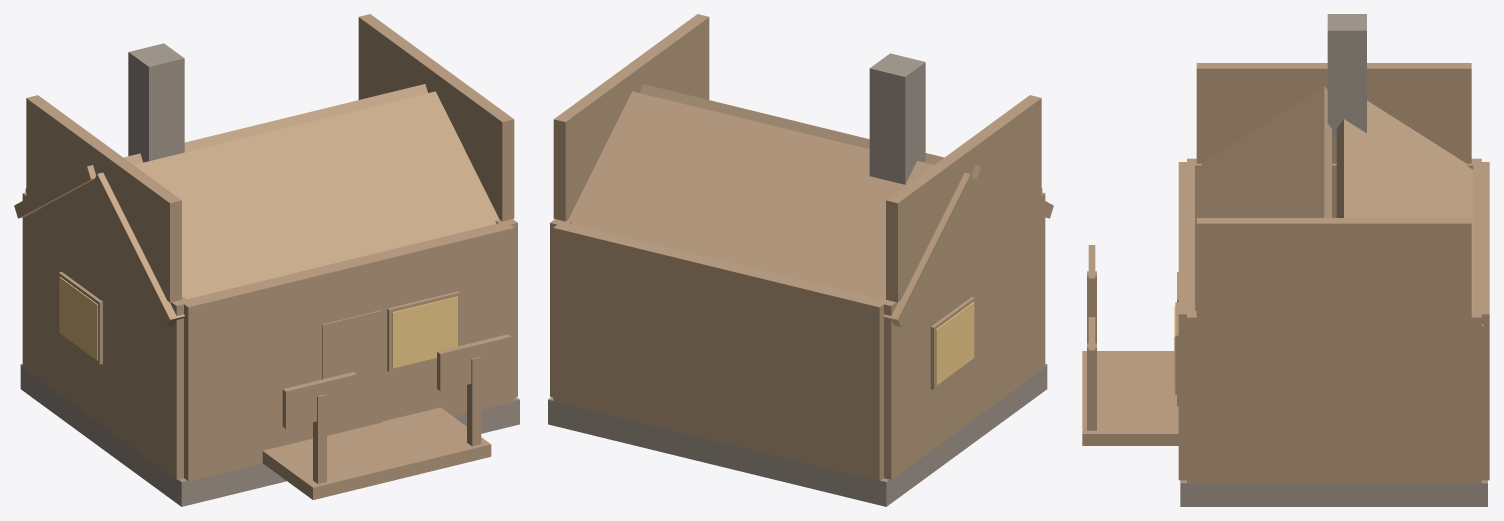
The model's file is SM_Cabin.fbx.
3 views of the same model, side by side, from view 1: azimuth 30°, elevation 25°; view 2: azimuth 150°, elevation 25°; view 3: azimuth 270°, elevation 25° (orthographic). The views are drawn at different scales.
Parts seen in each view (by area): view 1: SM_Cabin_Roof_A, SM_Cabin_Wall_Front, SM_Cabin_Wall_Side_L, SM_Cabin_Gable_Fill_L, SM_Cabin_Porch_Deck, SM_Cabin_Gable_Fill_R, SM_Cabin_Foundation, SM_Cabin_Chimney, SM_Cabin_Door, SM_Cabin_Roof_B, SM_Cabin_Window_Pane_Front, SM_Cabin_Porch_Rail_L (+7 smaller); view 2: SM_Cabin_Wall_Back, SM_Cabin_Roof_B, SM_Cabin_Wall_Side_L, SM_Cabin_Gable_Fill_L, SM_Cabin_Foundation, SM_Cabin_Gable_Fill_R, SM_Cabin_Chimney, SM_Cabin_Roof_A, SM_Cabin_Window_Pane_Side, SM_Cabin_Window_Frame_Side, SM_Cabin_Wall_Side_R; view 3: SM_Cabin_Wall_Side_R, SM_Cabin_Gable_Fill_R, SM_Cabin_Gable_Fill_L, SM_Cabin_Roof_A, SM_Cabin_Roof_B, SM_Cabin_Porch_Deck, SM_Cabin_Foundation, SM_Cabin_Chimney, SM_Cabin_Wall_Front, SM_Cabin_Wall_Back, SM_Cabin_Porch_Post_R, SM_Cabin_Porch_Rail_L (+2 smaller).
Part boxes in pixels (box(x1,y1,x2,y2)): SM_Cabin_Roof_A: box(93, 91, 499, 326); SM_Cabin_Wall_Front: box(182, 223, 514, 481); SM_Cabin_Wall_Side_L: box(22, 192, 189, 479); SM_Cabin_Gable_Fill_L: box(26, 95, 181, 302); SM_Cabin_Porch_Deck: box(262, 407, 491, 499); SM_Cabin_Gable_Fill_R: box(358, 14, 514, 221); SM_Cabin_Foundation: box(20, 364, 519, 506); SM_Cabin_Chimney: box(128, 43, 184, 162); SM_Cabin_Door: box(322, 310, 381, 435); SM_Cabin_Roof_B: box(14, 84, 427, 218); SM_Cabin_Window_Pane_Front: box(392, 296, 457, 368); SM_Cabin_Porch_Rail_L: box(282, 372, 357, 428); SM_Cabin_Wall_Back: box(553, 221, 883, 481); SM_Cabin_Roof_B: box(568, 91, 974, 326); SM_Cabin_Wall_Side_L: box(877, 192, 1045, 479); SM_Cabin_Gable_Fill_L: box(886, 95, 1041, 302); SM_Cabin_Foundation: box(548, 364, 1047, 506); SM_Cabin_Gable_Fill_R: box(553, 14, 709, 221); SM_Cabin_Chimney: box(869, 53, 925, 184); SM_Cabin_Roof_A: box(640, 84, 1053, 218); SM_Cabin_Window_Pane_Side: box(935, 302, 974, 385); SM_Cabin_Window_Frame_Side: box(930, 297, 974, 389); SM_Cabin_Wall_Side_R: box(550, 219, 572, 397); SM_Cabin_Wall_Side_R: box(1187, 311, 1481, 483); SM_Cabin_Gable_Fill_R: box(1196, 218, 1471, 318); SM_Cabin_Gable_Fill_L: box(1196, 63, 1471, 163); SM_Cabin_Roof_A: box(1185, 86, 1331, 328); SM_Cabin_Roof_B: box(1336, 100, 1483, 328); SM_Cabin_Porch_Deck: box(1082, 351, 1178, 445); SM_Cabin_Foundation: box(1180, 480, 1487, 506); SM_Cabin_Chimney: box(1327, 14, 1366, 137); SM_Cabin_Wall_Front: box(1178, 162, 1194, 480); SM_Cabin_Wall_Back: box(1473, 162, 1489, 480); SM_Cabin_Porch_Post_R: box(1087, 343, 1096, 430); SM_Cabin_Porch_Rail_L: box(1088, 245, 1095, 313).
Size of what is drawn, in the model's own units: 6.23 by 5.9 by 6.
